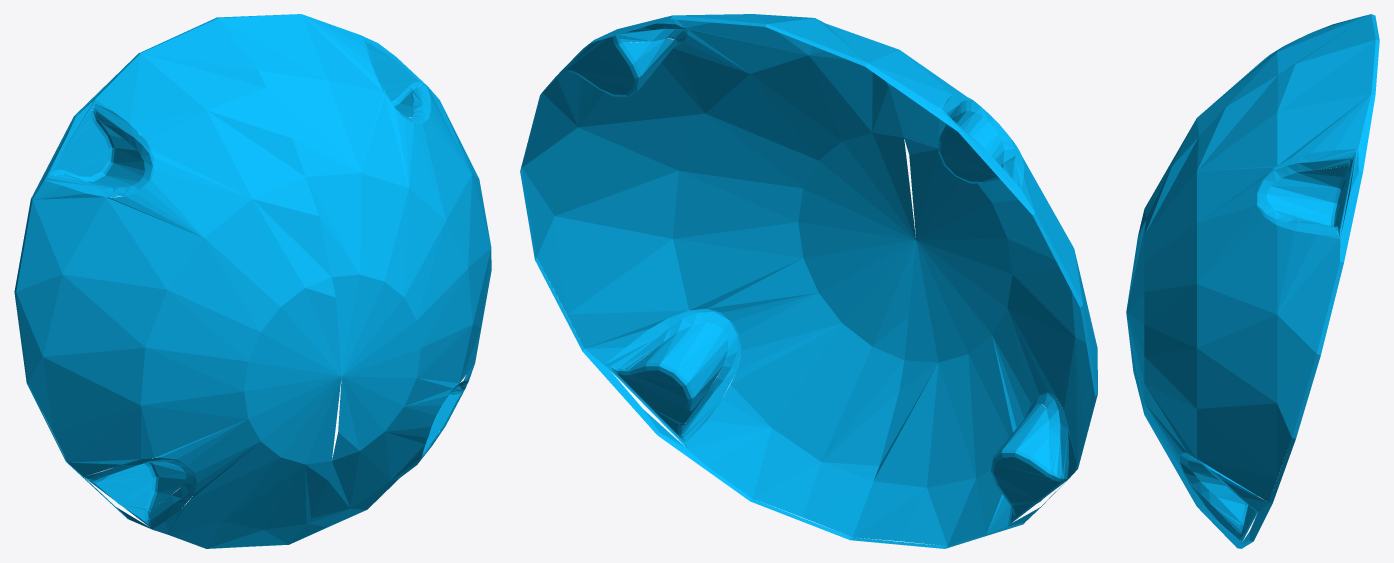
3 views of the same model, side by side, from view 1: azimuth 30°, elevation 25°; view 2: azimuth 150°, elevation 25°; view 3: azimuth 270°, elevation 25° (orthographic). The views are drawn at different scales.
Visible parts, largest first — view 1: HC10.001; view 2: HC10.001; view 3: HC10.001.
Part boxes in pixels (x1=…): HC10.001: x1=14, y1=14, x2=491, y2=548; HC10.001: x1=520, y1=14, x2=1097, y2=548; HC10.001: x1=1126, y1=14, x2=1379, y2=548.
Bounding box in the file's own units: 12.25 × 12.04 × 5.72.
